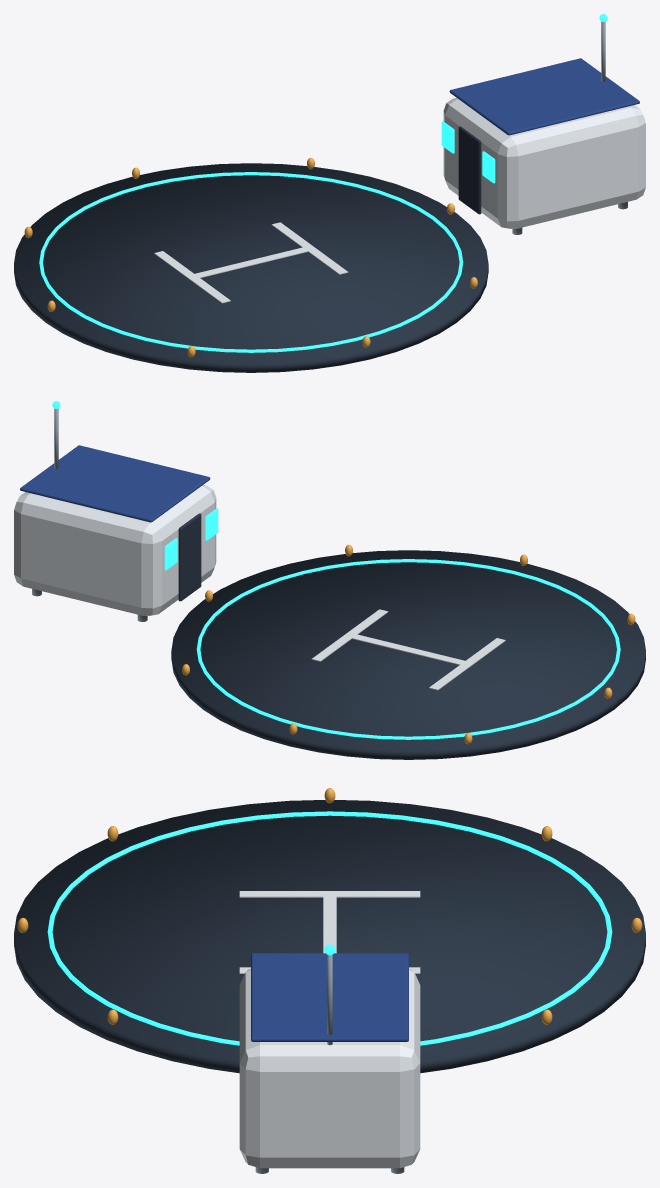
File: landing-base.glb
The picture shows the model from 3 angles, top to bottom: view 1: azimuth 30°, elevation 25°; view 2: azimuth 150°, elevation 25°; view 3: azimuth 270°, elevation 25°; orthographic projection. The views are drawn at different scales.
Visible parts, largest first — view 1: Static_Graphite panels.003, Static_Pearl ceramic white.003, Base solar panel, Static_Ion cyan emission.003, Static_Warm gold.002; view 2: Static_Graphite panels.003, Static_Pearl ceramic white.003, Base solar panel, Static_Ion cyan emission.003, Static_Warm gold.002; view 3: Static_Graphite panels.003, Static_Pearl ceramic white.003, Base solar panel, Static_Ion cyan emission.003, Static_Warm gold.002, Static_Brushed titanium.003.
Part boxes in pixels (<box>): Static_Graphite panels.003: <box>14,126,488,372</box>; Static_Pearl ceramic white.003: <box>154,97,645,303</box>; Base solar panel: <box>449,58,639,135</box>; Static_Ion cyan emission.003: <box>39,14,607,352</box>; Static_Warm gold.002: <box>24,157,477,357</box>; Static_Graphite panels.003: <box>171,513,645,759</box>; Static_Pearl ceramic white.003: <box>14,484,505,690</box>; Base solar panel: <box>20,445,210,522</box>; Static_Ion cyan emission.003: <box>52,401,620,739</box>; Static_Warm gold.002: <box>182,544,635,744</box>; Static_Graphite panels.003: <box>14,800,645,1073</box>; Static_Pearl ceramic white.003: <box>239,891,420,1168</box>; Base solar panel: <box>251,953,408,1041</box>; Static_Ion cyan emission.003: <box>47,811,612,1045</box>; Static_Warm gold.002: <box>17,788,642,1024</box>; Static_Brushed titanium.003: <box>255,954,404,1173</box>.
Size of the model in its own units: 19.5 by 5.62 by 14.
